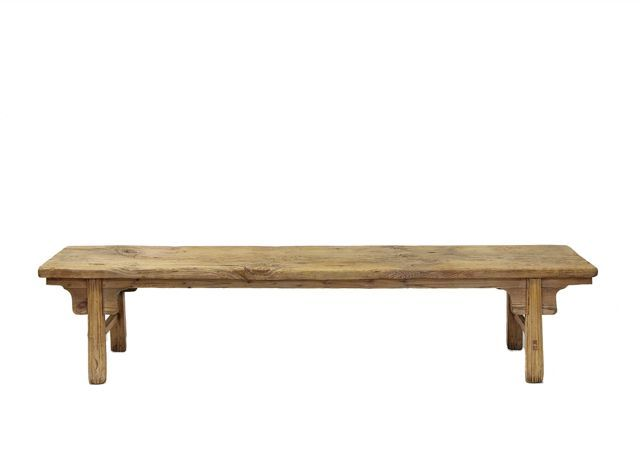chairs: (37, 245, 600, 387)
